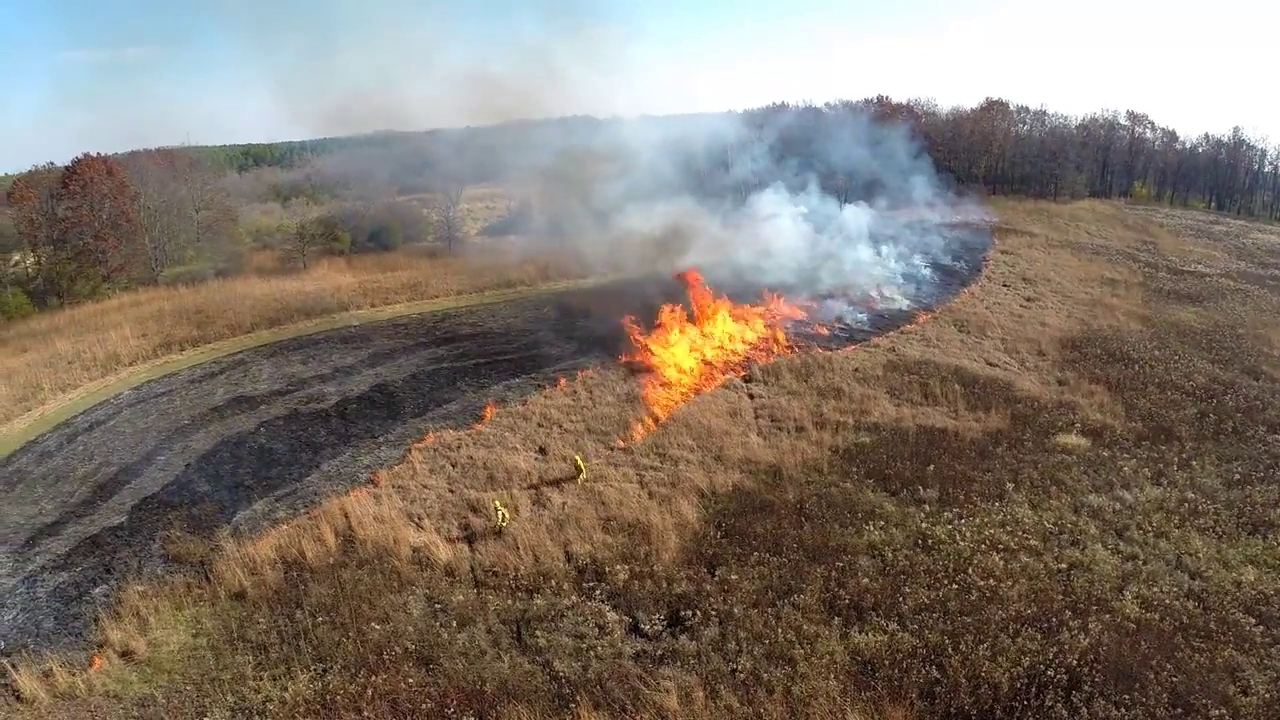forest_fire: (621, 269, 806, 438)
